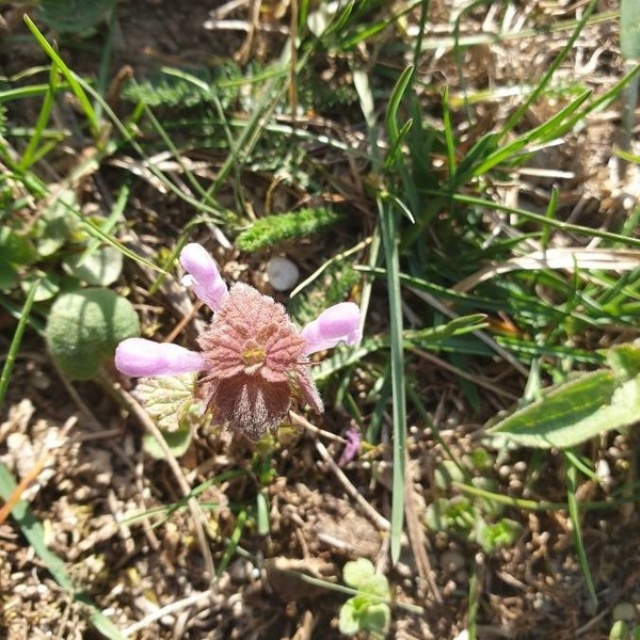obstacle: (87, 116, 623, 500)
